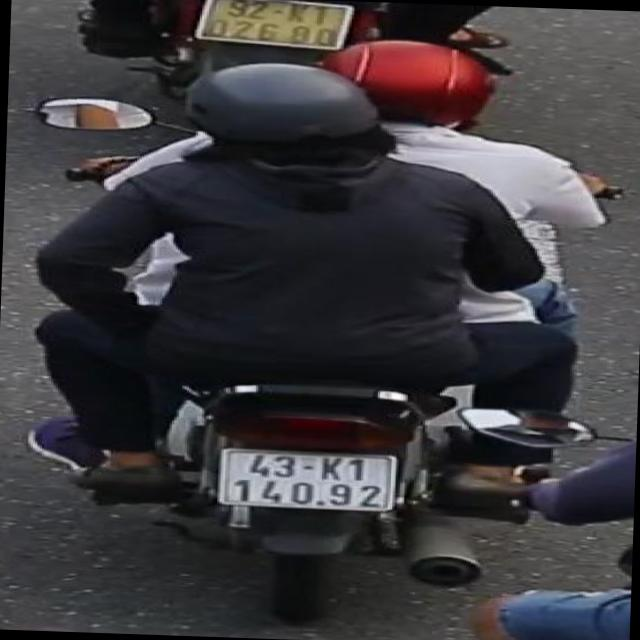LP: (215, 443, 408, 518), (192, 0, 360, 52)
helmet: (173, 60, 400, 182)
